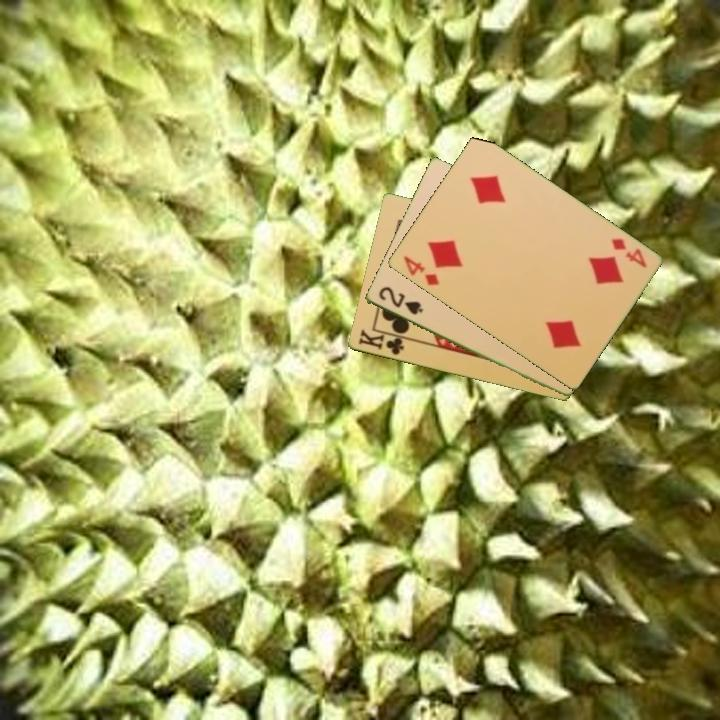2s: (375, 283, 425, 318)
4d: (400, 252, 442, 289), (607, 235, 649, 271)
Kc: (355, 326, 412, 358)
